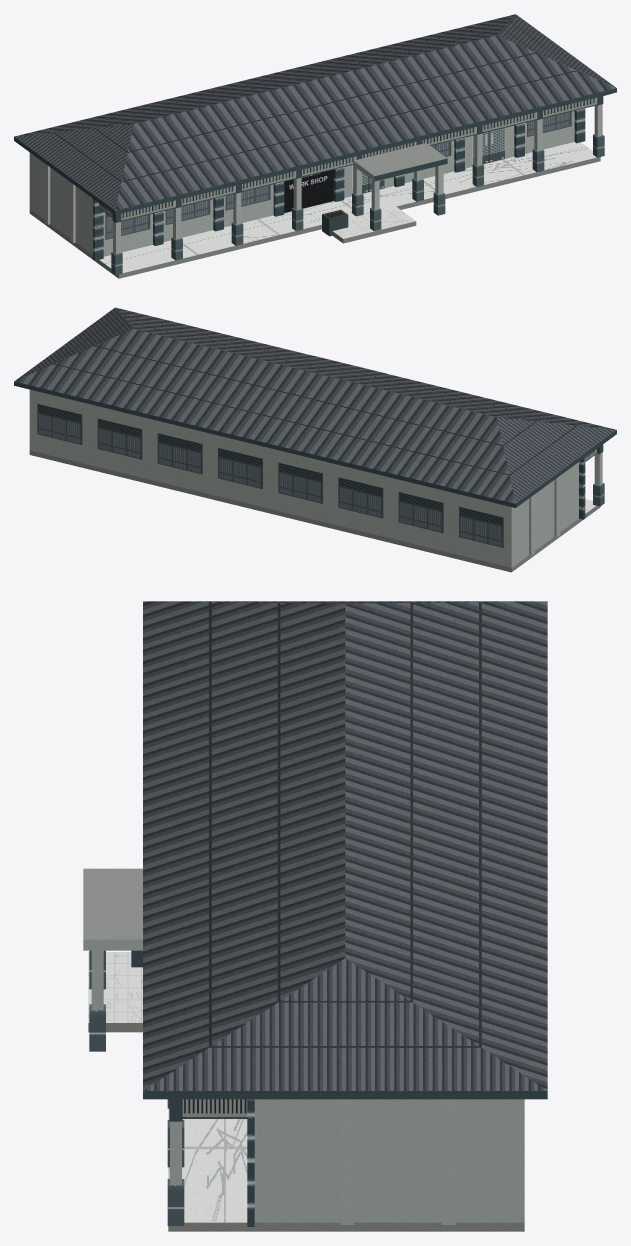
The model's file is gedung_lab_upw_web.glb.
3 views of the same model, one above another, from view 1: azimuth 30°, elevation 25°; view 2: azimuth 150°, elevation 25°; view 3: azimuth 270°, elevation 25° (orthographic). The views are drawn at different scales.
Visible parts, largest first — view 1: Gedung_Lab_UPW_Web; view 2: Gedung_Lab_UPW_Web; view 3: Gedung_Lab_UPW_Web.
Boxes of the visible parts, box(x1,y1,x2,y2) form: Gedung_Lab_UPW_Web: box(14, 14, 616, 278); Gedung_Lab_UPW_Web: box(14, 307, 616, 572); Gedung_Lab_UPW_Web: box(83, 601, 547, 1231).
Size of the model in its own units: 27.5 by 5.65 by 11.02.
1 material, 1 textured.
